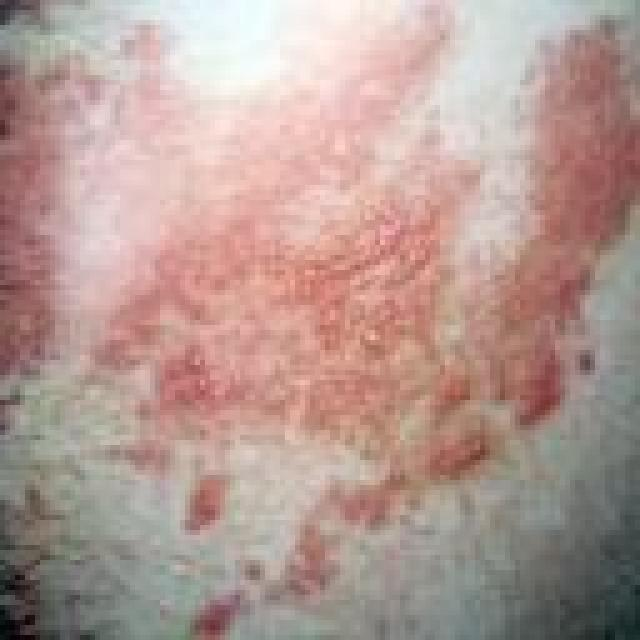Shingles: (0, 19, 630, 617)
